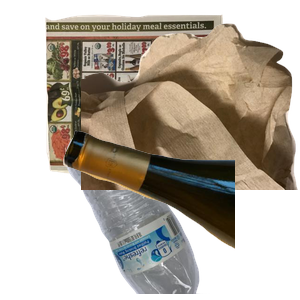glass: (60, 128, 300, 300)
paper: (42, 12, 260, 185)
plastic: (63, 120, 263, 300)
trash: (81, 21, 300, 201)
